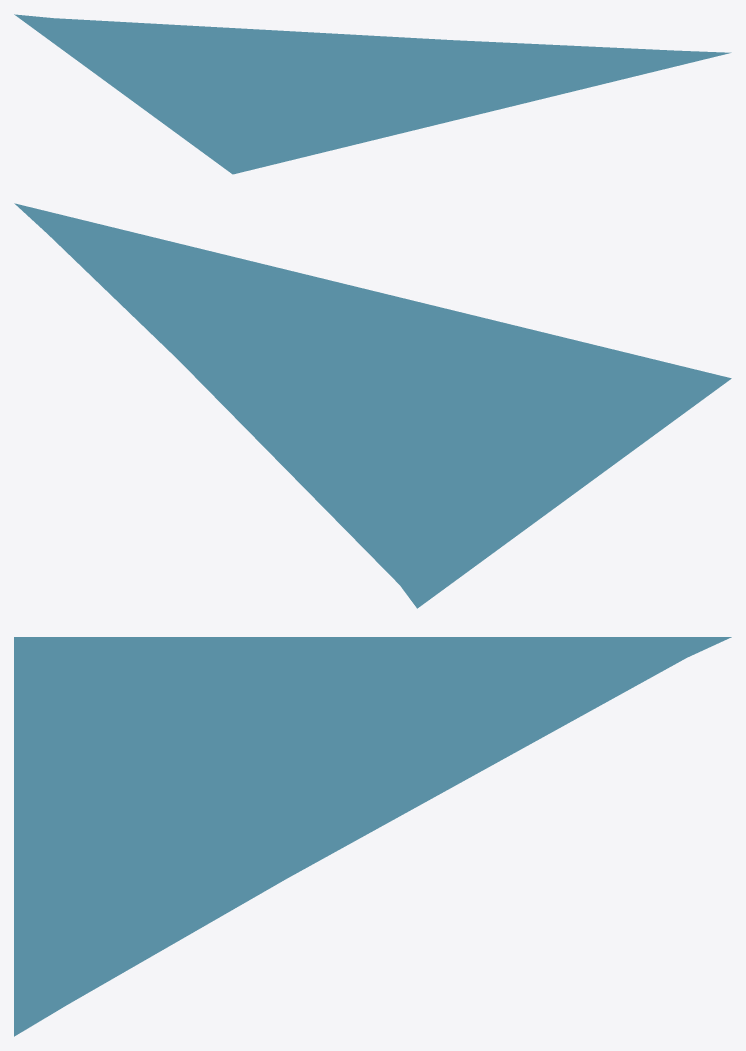
The model's file is nature_-8_6.glb.
3 renders of one model, top to bottom at view 1: azimuth 30°, elevation 25°; view 2: azimuth 150°, elevation 25°; view 3: azimuth 270°, elevation 25°, orthographic. The views are drawn at different scales.
Parts seen in each view (by area): view 1: water; view 2: water; view 3: water.
Part boxes in pixels (x1,y1,x2,y2): water: (14,14,731,174); water: (14,203,731,608); water: (14,637,731,1036).
Bounding box in the file's own units: 84.16 × 0 × 63.9.
